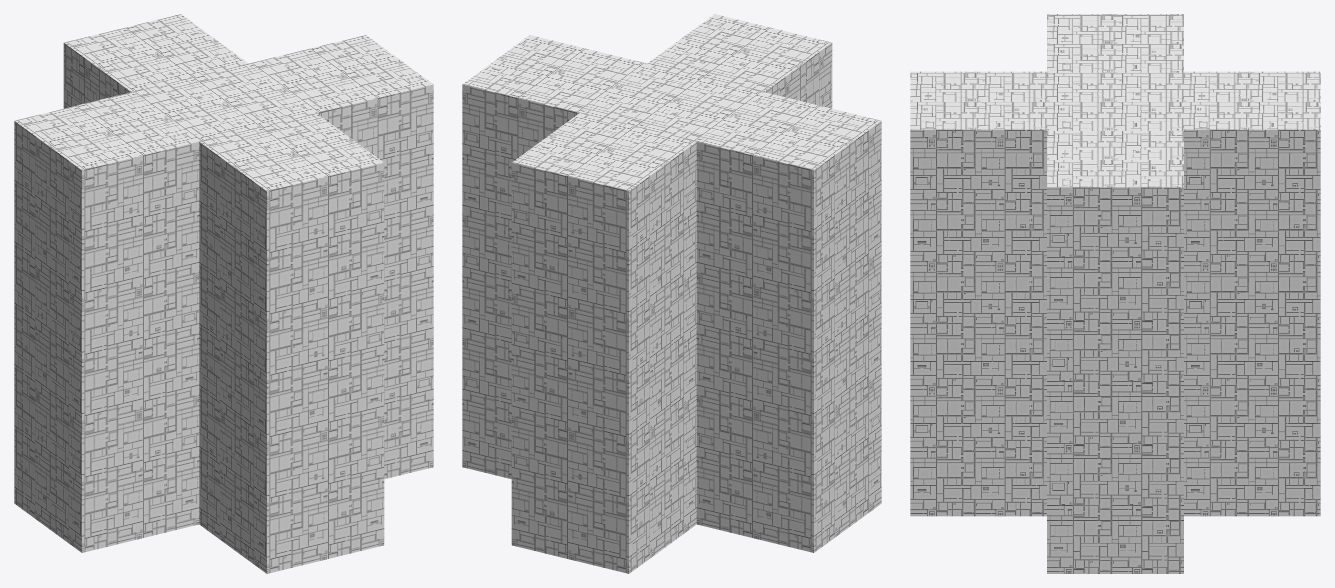
Rendered from PanelColumn2.fbx.
The picture shows the model from 3 angles, left to right: view 1: azimuth 30°, elevation 25°; view 2: azimuth 150°, elevation 25°; view 3: azimuth 270°, elevation 25°; orthographic projection.
Visible parts, largest first — view 1: Cross Pylon; view 2: Cross Pylon; view 3: Cross Pylon.
Part boxes in pixels (x1,y1,x2,y2): Cross Pylon: (14,14,433,573); Cross Pylon: (462,14,881,573); Cross Pylon: (910,14,1320,573).
Size of the model in its own units: 600 by 624 by 600.
Materials: 1 (1 with a texture image).
